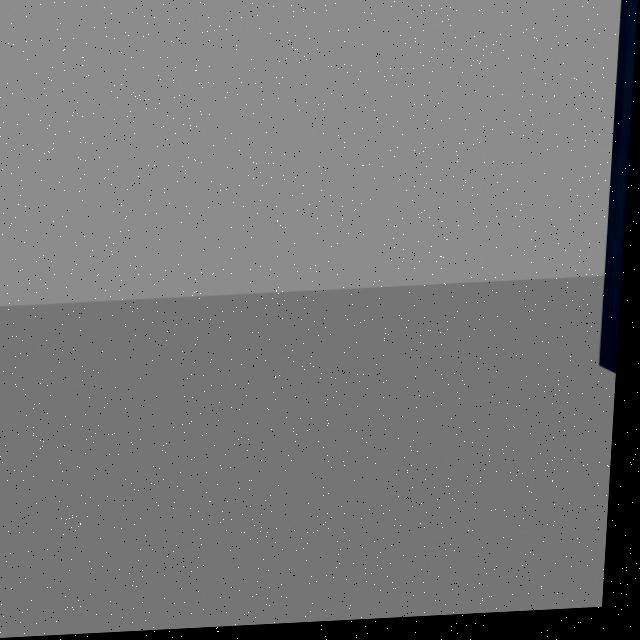shelf: (583, 0, 640, 405)
